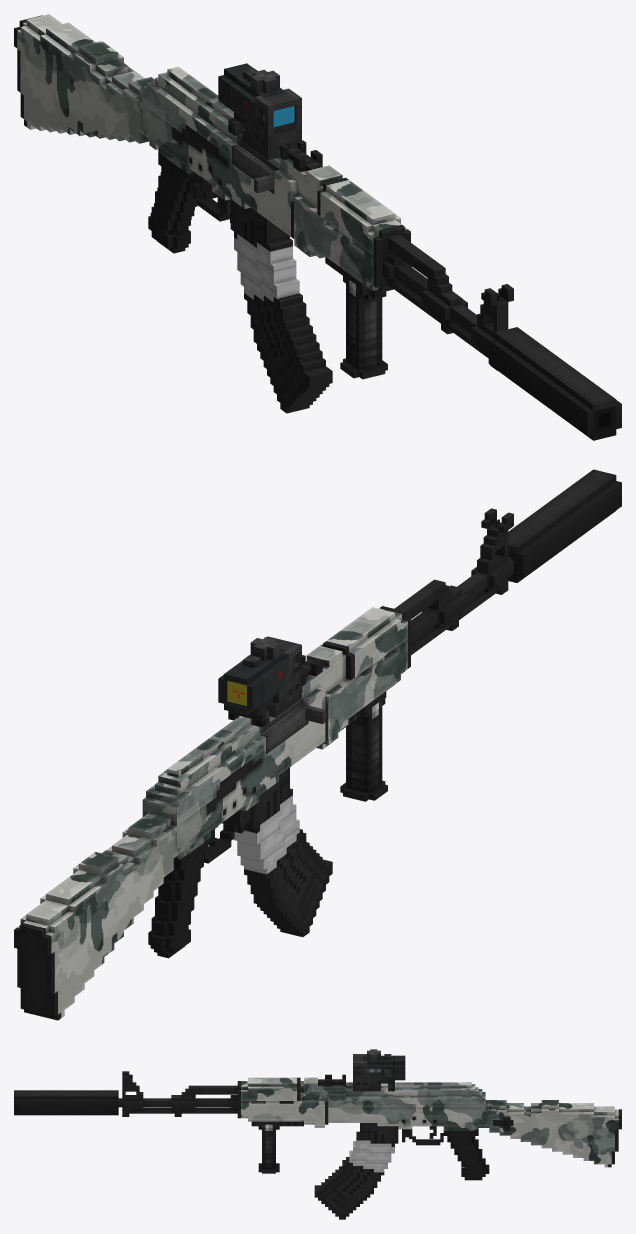
File: RD_AK47_SNOW.glb
3 views of the same model, one above another, from view 1: azimuth 30°, elevation 25°; view 2: azimuth 150°, elevation 25°; view 3: azimuth 270°, elevation 25° (orthographic). The views are drawn at different scales.
Visible parts, largest first — view 1: AK47, AK47_CLIP, SILENCER_6X6, GRIP1, SCOPE_TASCO, SCOPE_HOLOSUN, SCOPE_AIMPOINT; view 2: AK47, AK47_CLIP, SILENCER_6X6, SCOPE_TASCO, GRIP1, SCOPE_HOLOSUN; view 3: AK47, AK47_CLIP, SILENCER_6X6, SCOPE_TASCO, GRIP1, SCOPE_HOLOSUN.
Part boxes in pixels (box(x1,y1,x2,y2)): AK47: box(14, 14, 513, 370); AK47_CLIP: box(230, 199, 332, 413); SILENCER_6X6: box(488, 327, 621, 440); GRIP1: box(325, 257, 387, 379); SCOPE_TASCO: box(218, 63, 301, 140); SCOPE_HOLOSUN: box(241, 88, 301, 159); SCOPE_AIMPOINT: box(261, 94, 296, 152); AK47: box(14, 508, 513, 1020); AK47_CLIP: box(234, 767, 332, 937); SILENCER_6X6: box(508, 469, 621, 582); SCOPE_TASCO: box(218, 637, 301, 727); GRIP1: box(338, 691, 387, 801); SCOPE_HOLOSUN: box(264, 636, 301, 717); AK47: box(118, 1071, 621, 1180); AK47_CLIP: box(314, 1123, 398, 1219); SILENCER_6X6: box(14, 1090, 118, 1115); SCOPE_TASCO: box(353, 1049, 405, 1091); GRIP1: box(251, 1121, 303, 1173); SCOPE_HOLOSUN: box(353, 1054, 380, 1091).
Size of the model in its own units: 0.0984 by 0.5118 by 1.71.
Materials: 9 (9 with a texture image).
